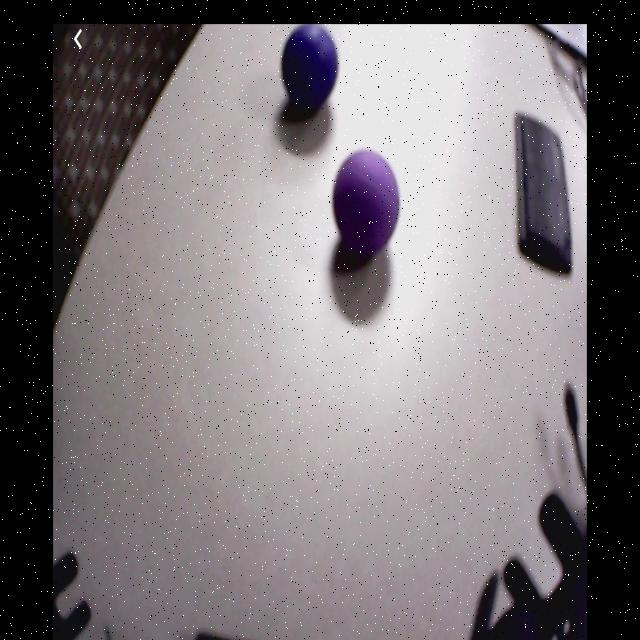ball: (334, 148, 400, 259), (280, 26, 340, 112)
